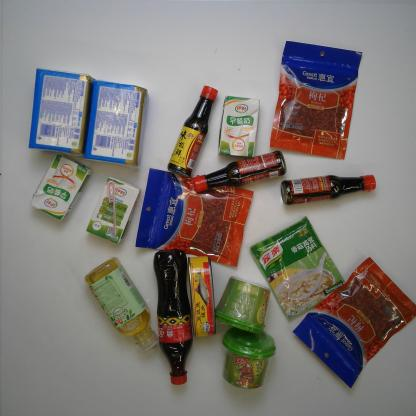Canned Food: (186, 255, 216, 339)
Dried Fruit: (292, 257, 416, 390), (135, 168, 254, 268), (269, 40, 364, 161)
Drink: (83, 256, 159, 353), (152, 249, 194, 386)
Instant Drink: (221, 326, 277, 390), (214, 275, 272, 335)
Milk: (28, 155, 92, 225), (85, 176, 142, 247), (216, 92, 265, 159)
Seasoner: (249, 216, 348, 322), (167, 86, 219, 178), (192, 150, 288, 194), (276, 171, 378, 206)
Tissue: (28, 67, 98, 157), (83, 80, 149, 168)
